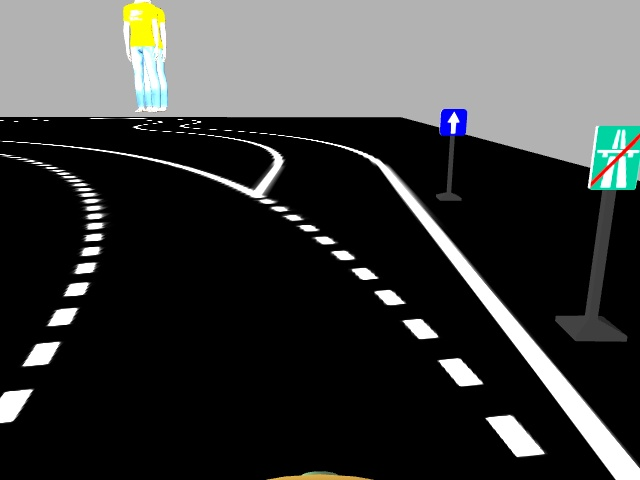HighwayExit: (591, 123, 637, 187)
OneWay: (438, 107, 468, 136)
